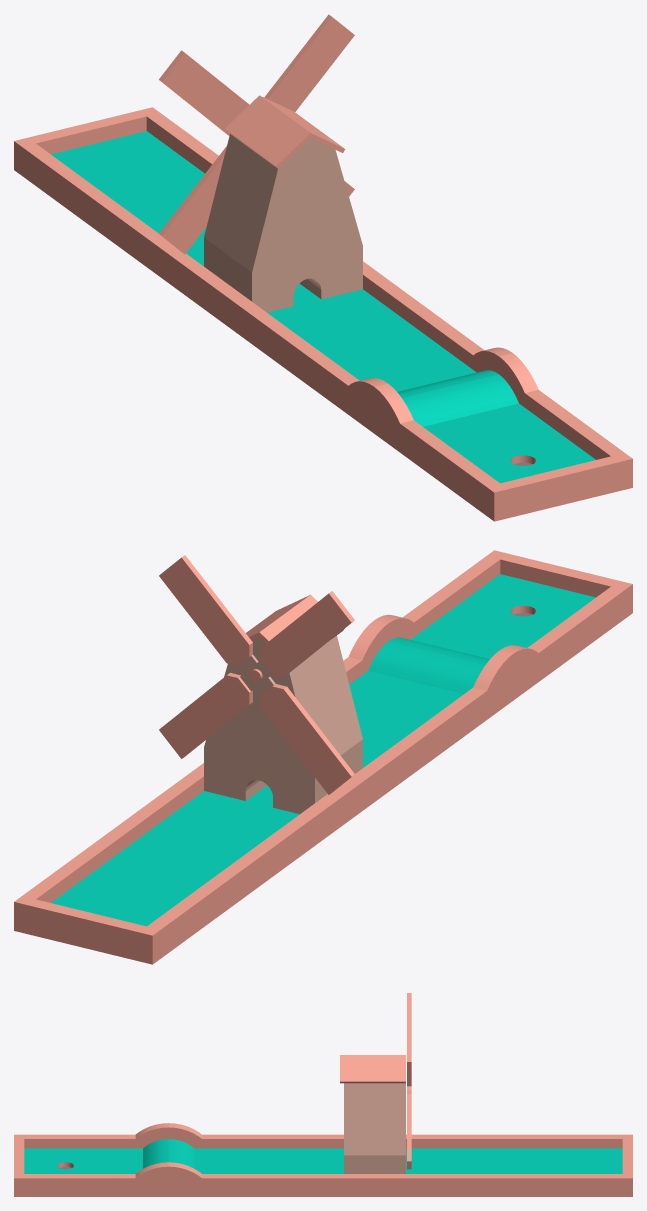
The model's file is Hole3.fbx.
The picture shows the model from 3 angles, top to bottom: view 1: azimuth 30°, elevation 25°; view 2: azimuth 150°, elevation 25°; view 3: azimuth 270°, elevation 25°; orthographic projection. The views are drawn at different scales.
Parts seen in each view (by area): view 1: Hole3.002, Hole3.004, Hole3.005, Hole3.001, Hole3.007, Hole3.008, Hole3.015, Hole3.009, Hole3.013, Hole3.016, Hole3.012, Hole3.011; view 2: Hole3.002, Hole3.004, Hole3.001, Hole3.005, Hole3.007, Hole3.016, Hole3.013, Hole3.011, Hole3.015, Hole3.012, Hole3.014, Hole3.008 (+1 smaller); view 3: Hole3.002, Hole3.004, Hole3.007, Hole3.001, Hole3.005, Hole3.008, Hole3.016, Hole3.015, Hole3.009, Hole3.014.
Boxes of the visible parts, box(x1,y1,x2,y2) form: Hole3.002: box(51, 131, 595, 483); Hole3.004: box(204, 134, 362, 312); Hole3.005: box(414, 400, 632, 521); Hole3.001: box(14, 107, 218, 228); Hole3.007: box(334, 341, 552, 462); Hole3.008: box(254, 283, 472, 403); Hole3.015: box(174, 255, 392, 345); Hole3.009: box(225, 95, 345, 168); Hole3.013: box(264, 14, 354, 111); Hole3.016: box(94, 196, 187, 286); Hole3.012: box(159, 50, 249, 135); Hole3.011: box(159, 146, 226, 254); Hole3.002: box(51, 574, 595, 926); Hole3.004: box(204, 635, 362, 814); Hole3.001: box(14, 843, 232, 964); Hole3.005: box(414, 550, 632, 671); Hole3.007: box(343, 609, 552, 729); Hole3.016: box(94, 784, 312, 905); Hole3.013: box(159, 555, 252, 665); Hole3.011: box(261, 684, 354, 794); Hole3.015: box(174, 756, 392, 846); Hole3.012: box(261, 591, 354, 677); Hole3.014: box(159, 672, 252, 758); Hole3.008: box(345, 670, 472, 788); Hole3.002: box(24, 1139, 622, 1173); Hole3.004: box(344, 1083, 409, 1173); Hole3.007: box(117, 1123, 220, 1196); Hole3.001: box(529, 1134, 632, 1196); Hole3.005: box(14, 1134, 117, 1196); Hole3.008: box(220, 1134, 323, 1196); Hole3.016: box(426, 1134, 529, 1196); Hole3.015: box(323, 1134, 426, 1196); Hole3.009: box(340, 1055, 405, 1083); Hole3.014: box(407, 1090, 411, 1169).
Size of the model in its own units: 139 by 170 by 600.
